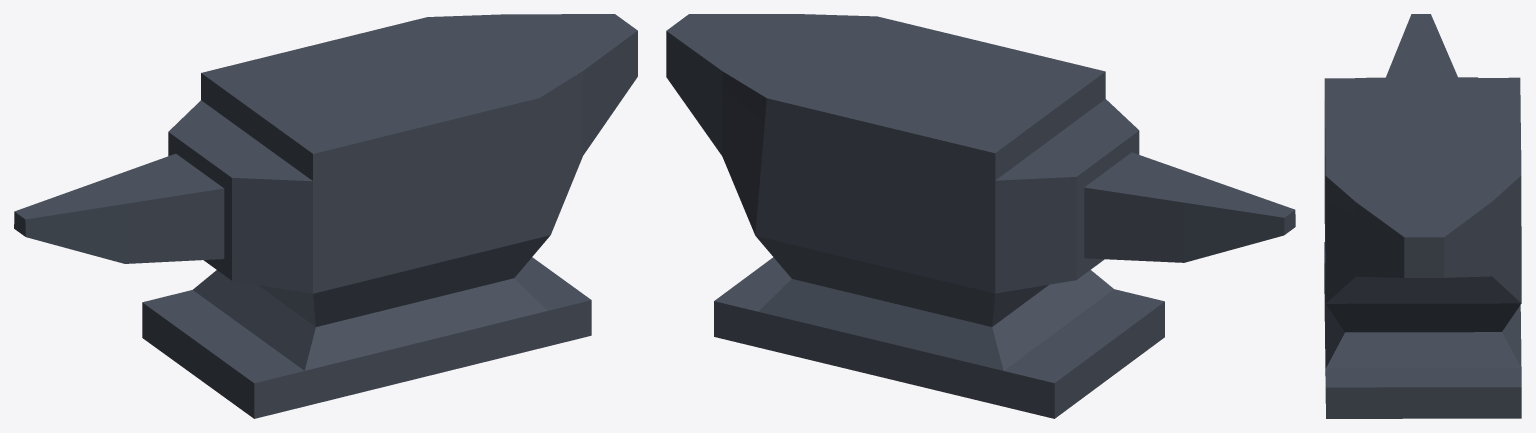
File: anvil.glb
3 views of the same model, side by side, from view 1: azimuth 30°, elevation 25°; view 2: azimuth 150°, elevation 25°; view 3: azimuth 270°, elevation 25° (orthographic). The views are drawn at different scales.
Visible parts, largest first — view 1: Cube; view 2: Cube; view 3: Cube.
Boxes of the visible parts, x1,y1,x2,y2 form: Cube: (14, 14, 637, 418); Cube: (666, 14, 1295, 418); Cube: (1324, 14, 1521, 418).
Size of the model in its own units: 3.64 by 1.43 by 1.16.
